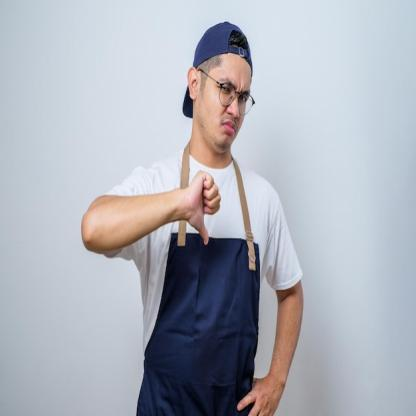thumb_down: (182, 166, 223, 248)
